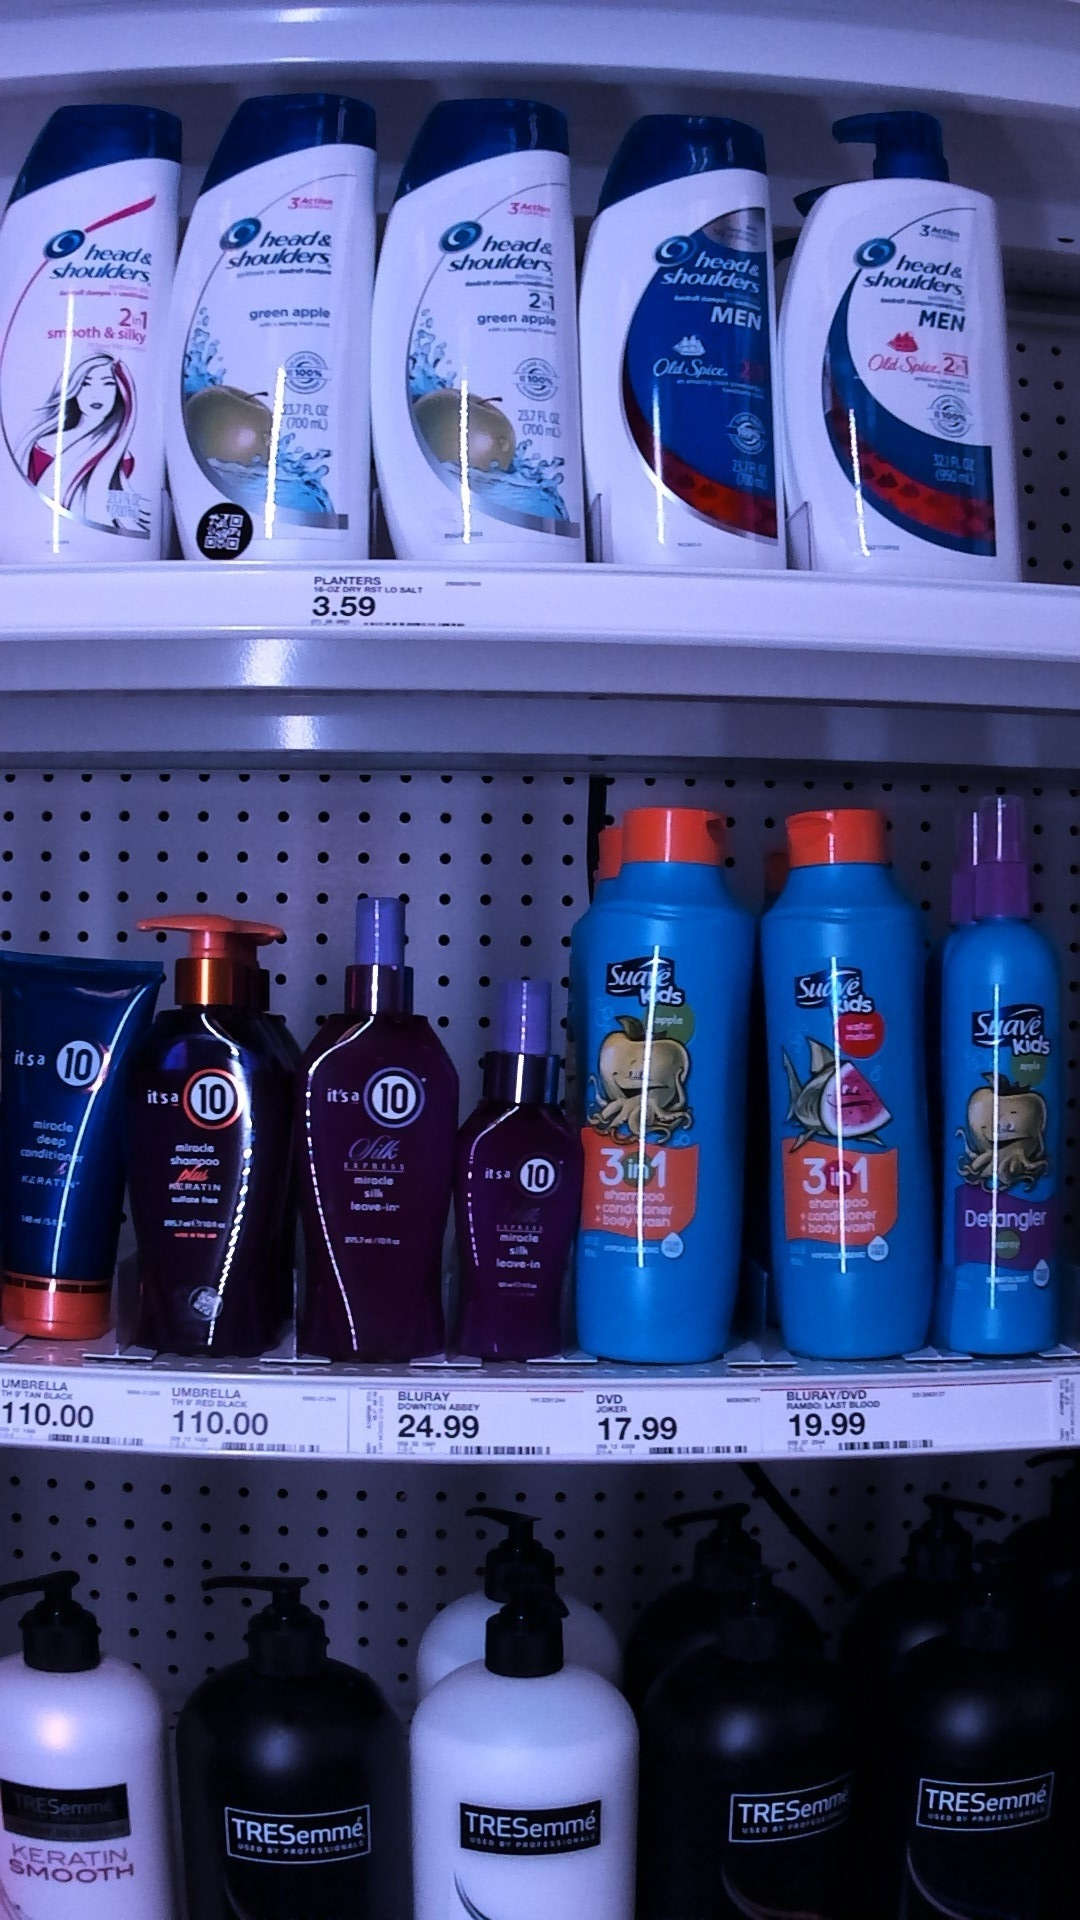ptag: (367, 1389, 566, 1476), (173, 1377, 338, 1466), (591, 1385, 762, 1466), (785, 1375, 944, 1462), (298, 566, 484, 640), (1, 1374, 158, 1447)
